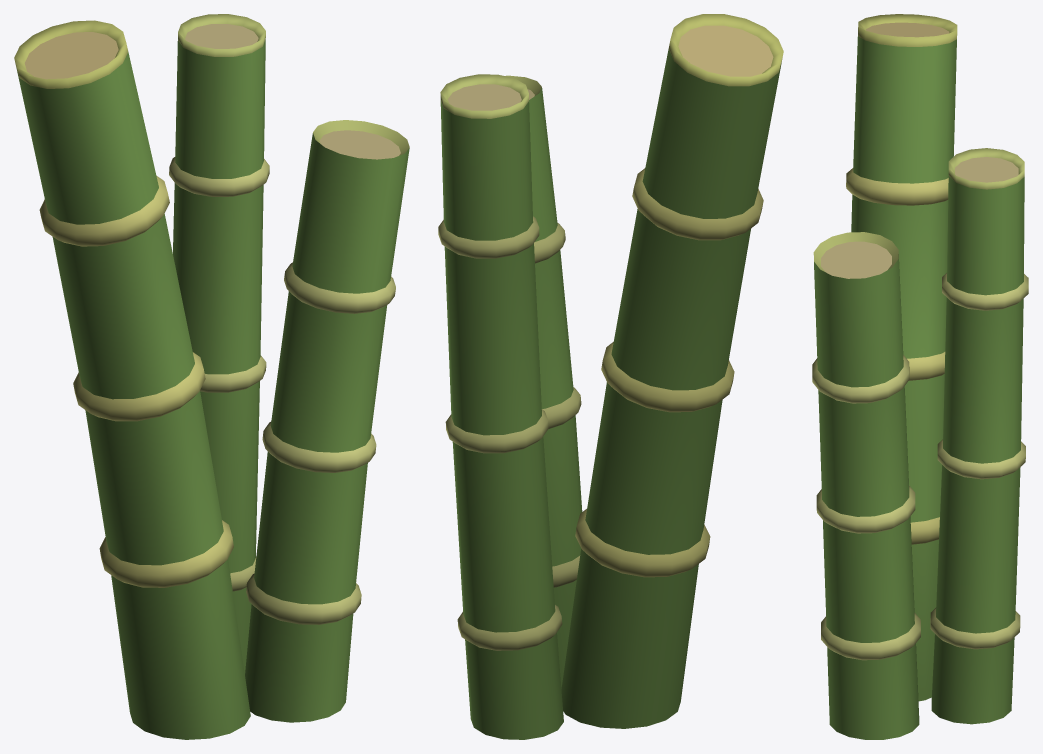
File: Bamboo_Remake_NoLeaves.glb
3 renders of one model, left to right at view 1: azimuth 30°, elevation 25°; view 2: azimuth 150°, elevation 25°; view 3: azimuth 270°, elevation 25°, orthographic. The views are drawn at different scales.
Parts seen in each view (by area): view 1: Bamboo_Remake_NoLeaves; view 2: Bamboo_Remake_NoLeaves; view 3: Bamboo_Remake_NoLeaves.
Boxes of the visible parts, bbox=[...] form: Bamboo_Remake_NoLeaves: bbox=[14, 14, 409, 739]; Bamboo_Remake_NoLeaves: bbox=[438, 14, 783, 739]; Bamboo_Remake_NoLeaves: bbox=[812, 14, 1028, 739].
Size of the model in its own units: 2.36 by 4.48 by 1.43.
